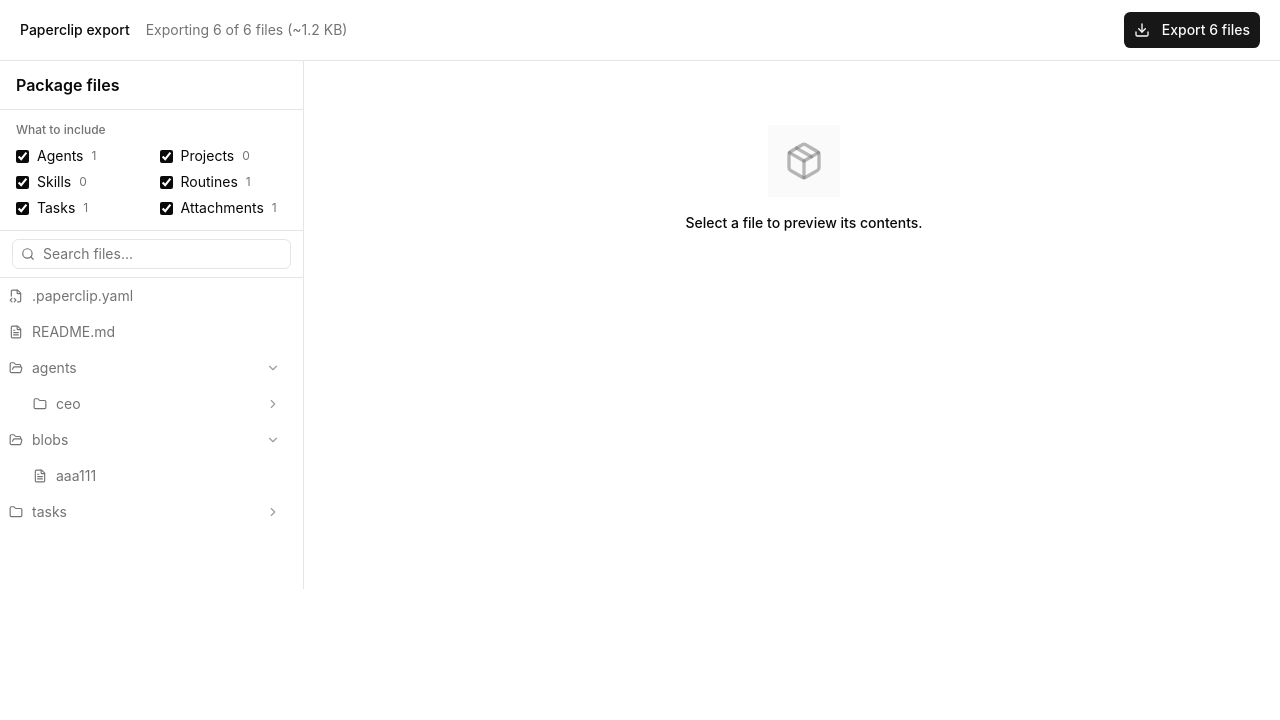
Test case: CompanyExport › shows the estimated download size and updates it when a category toggles off
This screenshot has width=1280, height=720.
Step 1. Click the checkbox labelled "Tasks 1" → (22, 208), box [16,202,29,214]
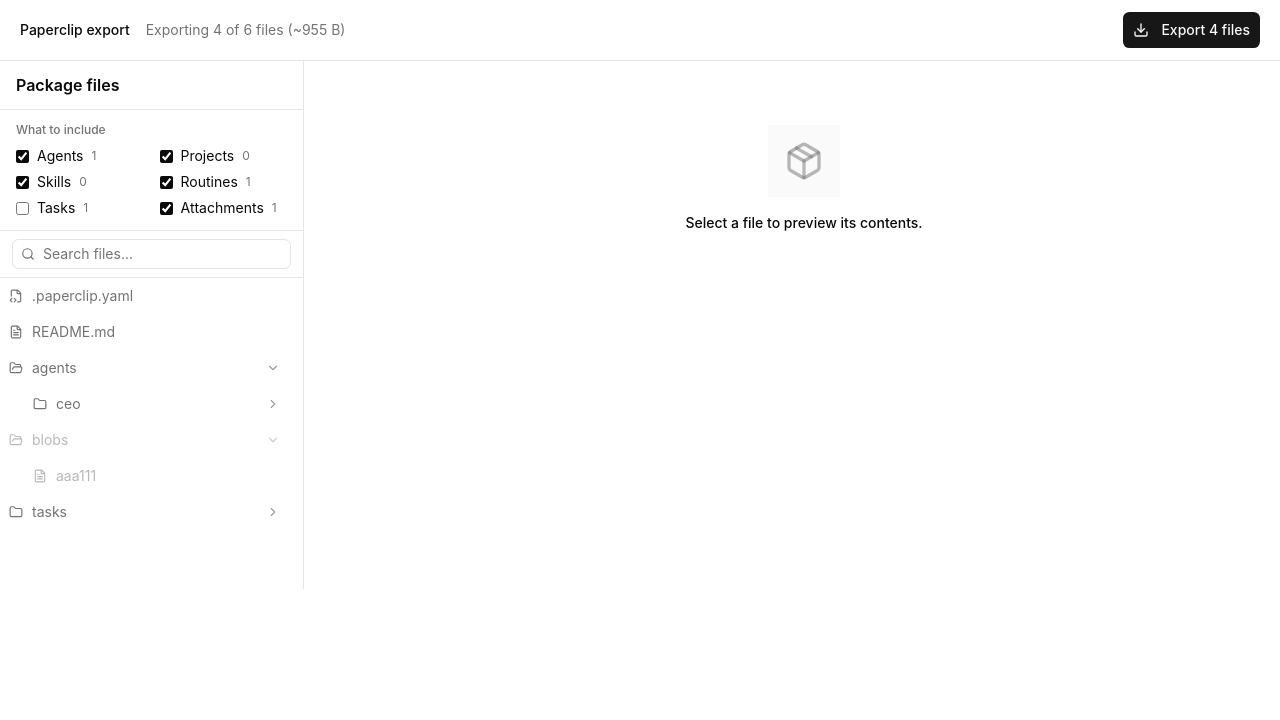
Now the text "Exporting 4 of 6 files" is shown, box [146,20,345,40]
